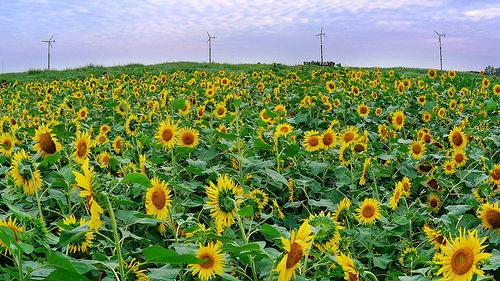sunflower: (433, 229, 489, 281), (277, 215, 320, 281), (205, 174, 240, 232), (10, 149, 42, 194), (187, 244, 225, 281), (30, 123, 60, 159), (146, 178, 171, 220), (72, 129, 94, 163), (357, 196, 382, 224), (477, 201, 500, 230), (157, 122, 180, 150), (176, 129, 199, 149), (303, 129, 323, 152), (446, 126, 466, 148), (337, 125, 360, 143), (389, 181, 402, 209), (320, 126, 335, 150), (451, 146, 467, 166), (392, 109, 407, 129), (409, 141, 425, 158), (127, 115, 139, 133), (213, 104, 227, 118), (275, 123, 293, 133)
